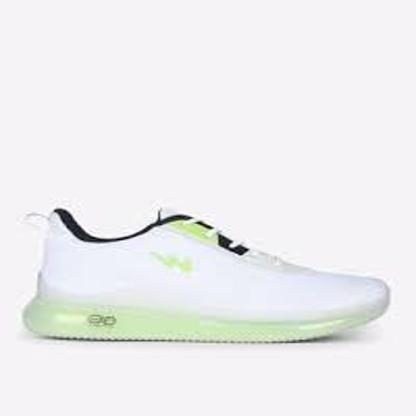not trash: (19, 204, 390, 344)
